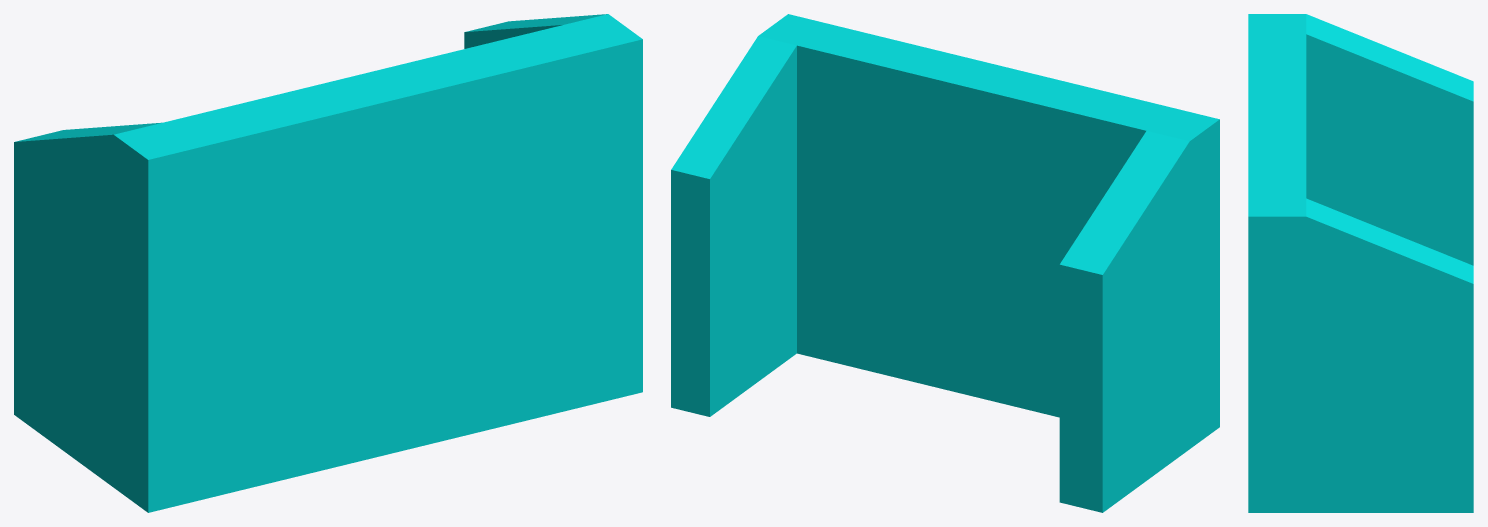
The model's file is Attachment_Type1_A.fbx.
The picture shows the model from 3 angles, left to right: view 1: azimuth 30°, elevation 25°; view 2: azimuth 150°, elevation 25°; view 3: azimuth 270°, elevation 25°; orthographic projection. The views are drawn at different scales.
Visible parts, largest first — view 1: Attachment_Type1_A; view 2: Attachment_Type1_A; view 3: Attachment_Type1_A.
Boxes of the visible parts, left/top/right/bottom form: Attachment_Type1_A: left=14, top=14, right=642, bottom=512; Attachment_Type1_A: left=671, top=14, right=1219, bottom=512; Attachment_Type1_A: left=1248, top=14, right=1473, bottom=512.
Size of the model in its own units: 11.1 by 7.57 by 5.22.
